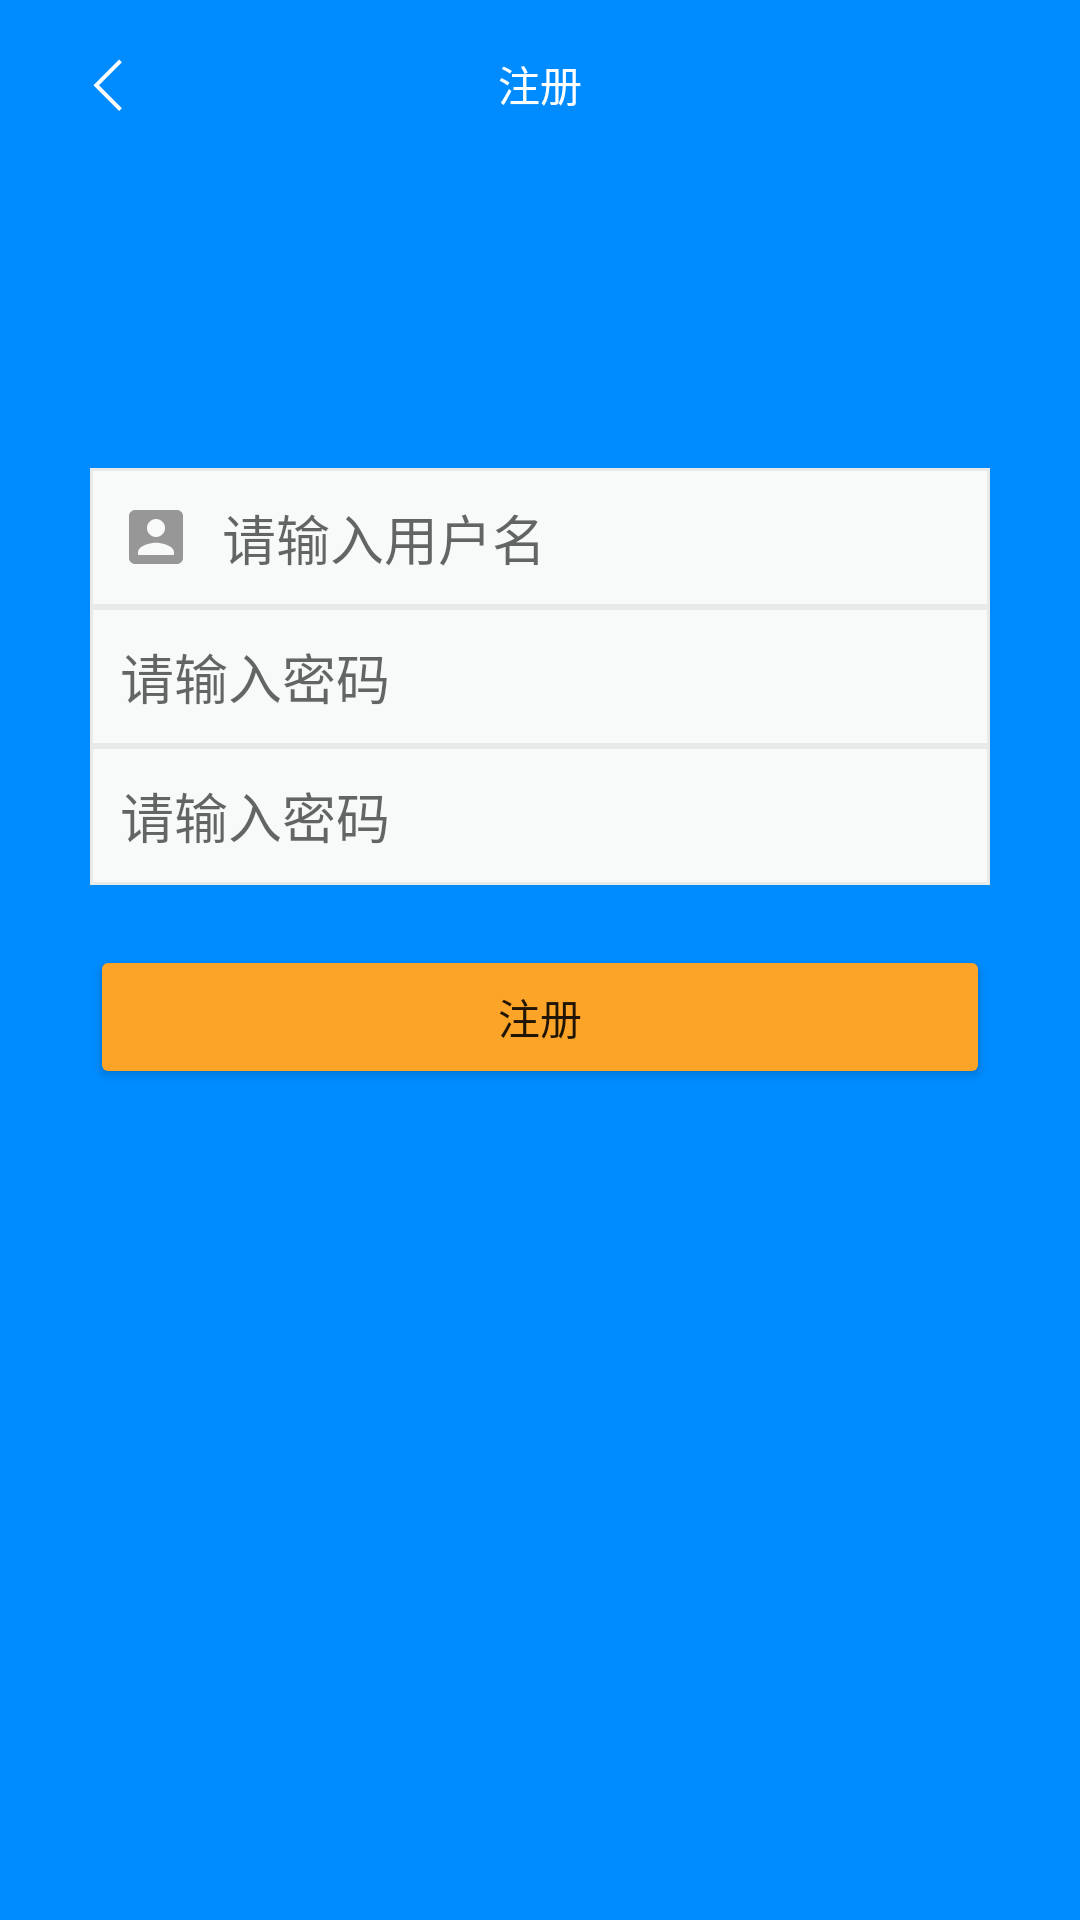

Named icons in this screenshot (1080x1920) and their bounding boxes, (x1, y1, x2, y2):
back: (93, 59, 122, 111)
